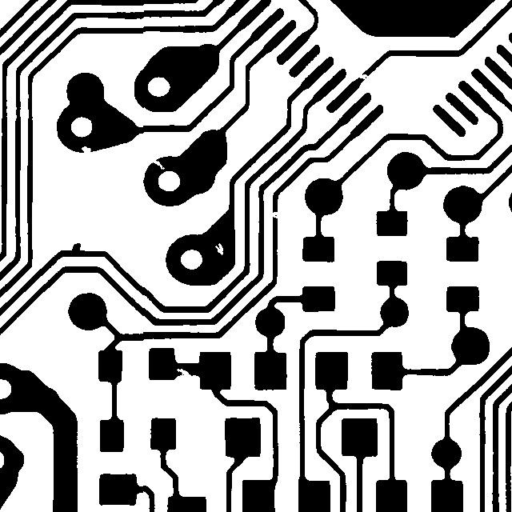mousebite: (143, 149, 172, 177), (169, 361, 200, 386), (74, 138, 98, 162)
open: (350, 66, 375, 89), (262, 204, 286, 226)
pin-hole: (207, 235, 230, 262)
spur: (64, 235, 88, 259)
